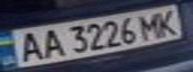2: (84, 20, 109, 52), (103, 17, 124, 48)
3: (63, 22, 87, 54)
6: (118, 14, 142, 45)
A: (9, 30, 48, 63), (36, 26, 66, 60)
K: (151, 7, 184, 37)
M: (133, 10, 166, 40)
